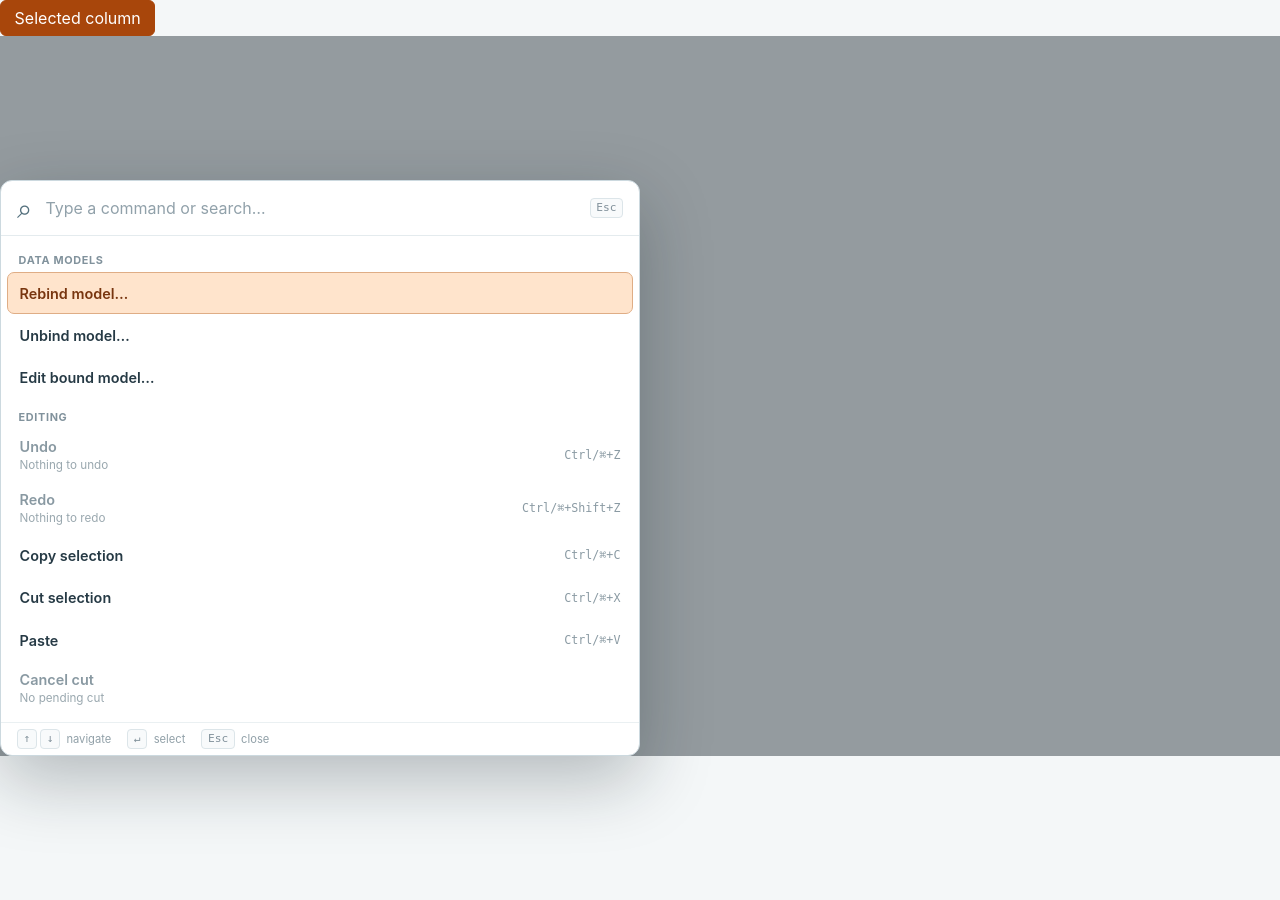
it: workspace palette actions › cancels model confirmation with Escape without mutation and restores focus
The image size is (1280, 900).
In the dropdown named "Command search": [311, 208] box top-left (43, 197), bottom-right (578, 219), type "Rename column"
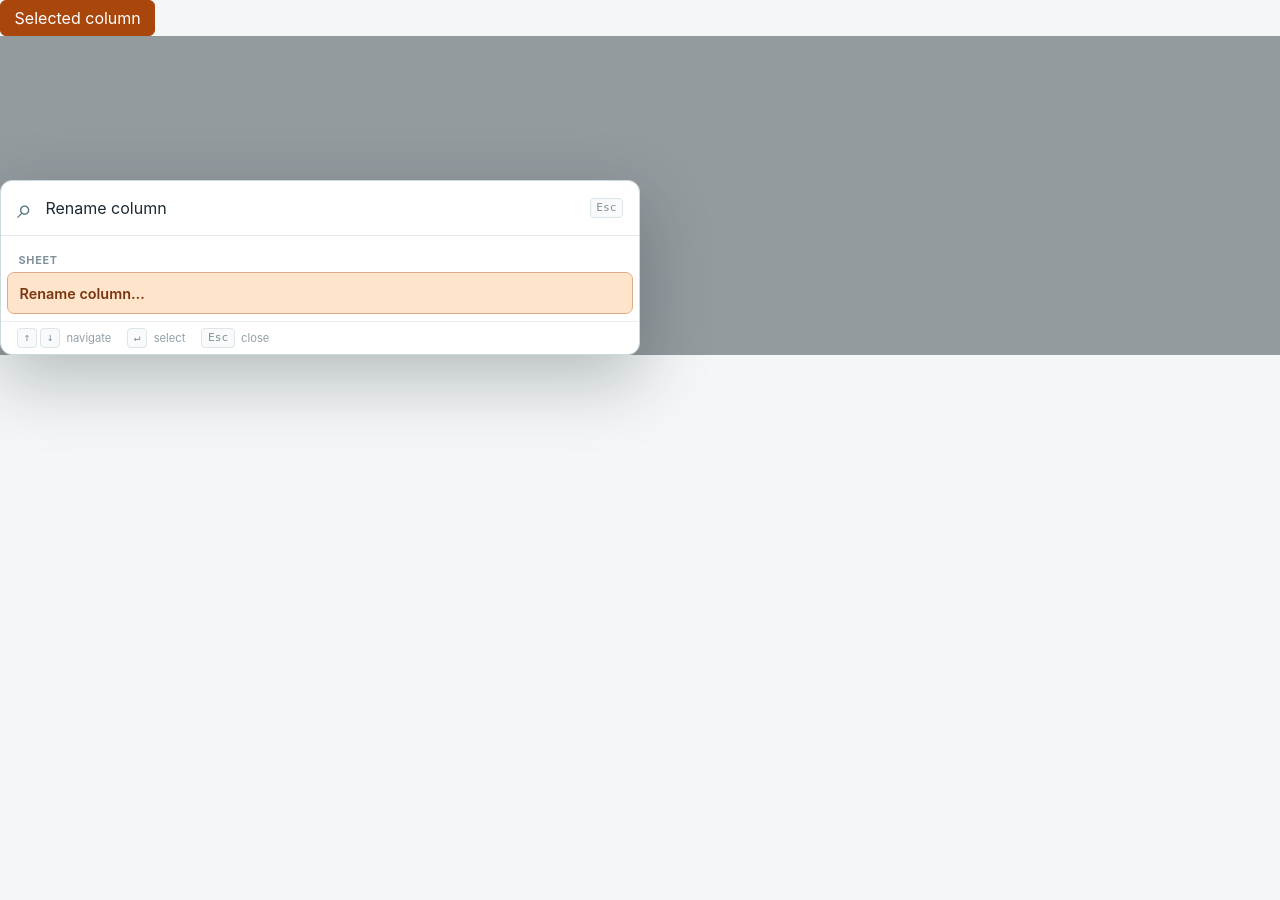
Press Enter in the dropdown named "Command search", box top-left (43, 197), bottom-right (578, 219)
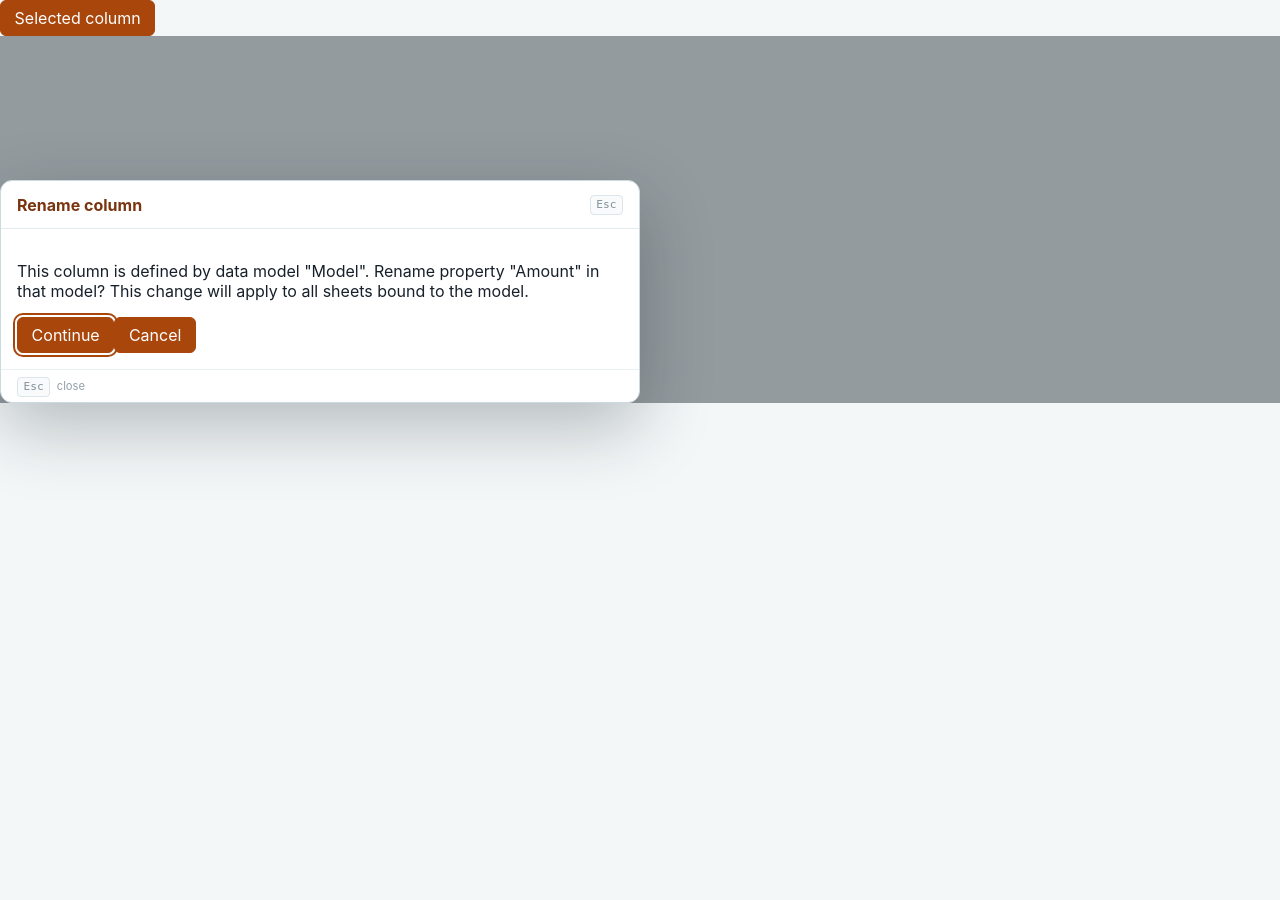
Check: the text "defined by data model \"Model\"" shows "Amount", box top-left (515, 261), bottom-right (574, 281)
Press Escape in the button "Continue", box top-left (17, 317), bottom-right (114, 353)
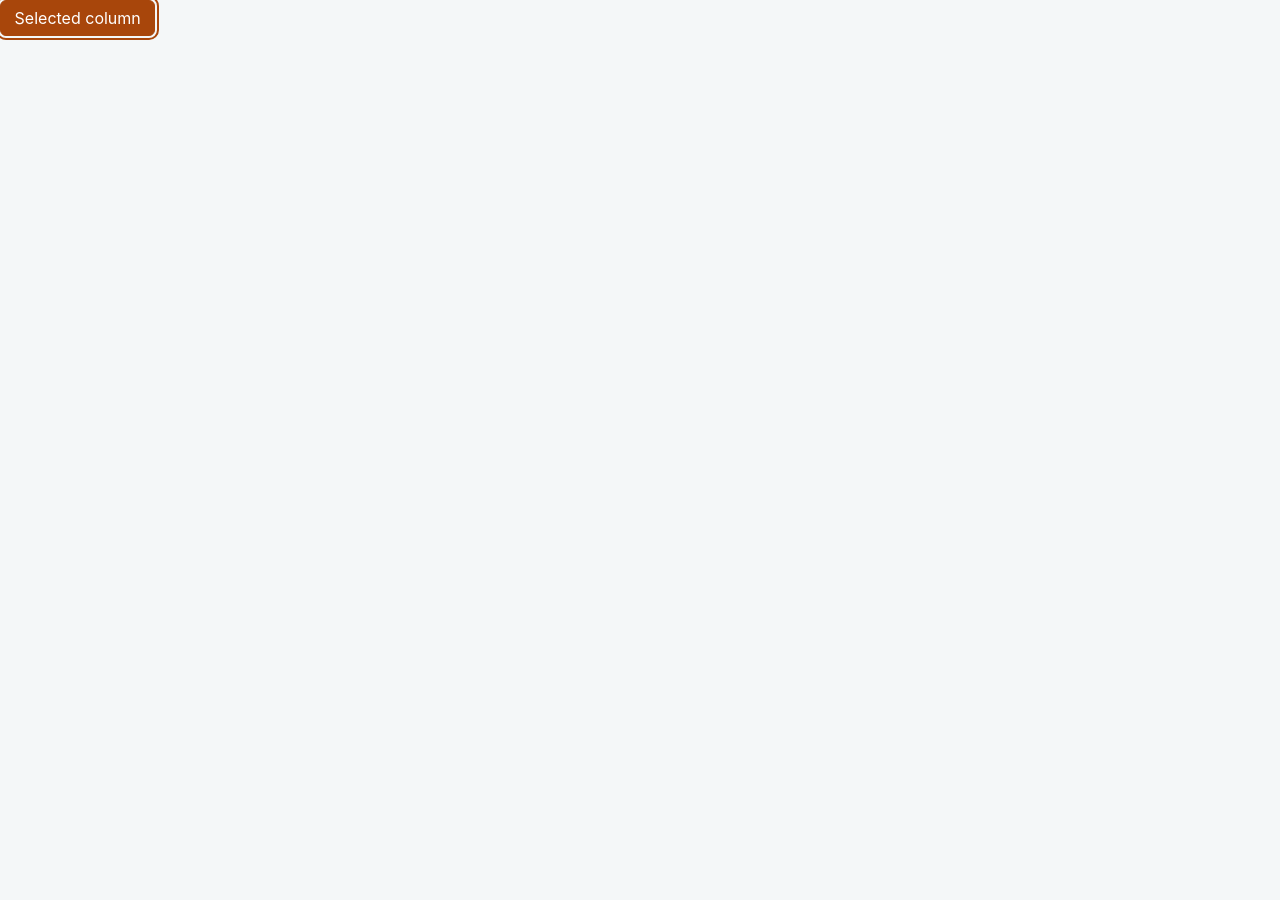
Check: the dialog is gone
